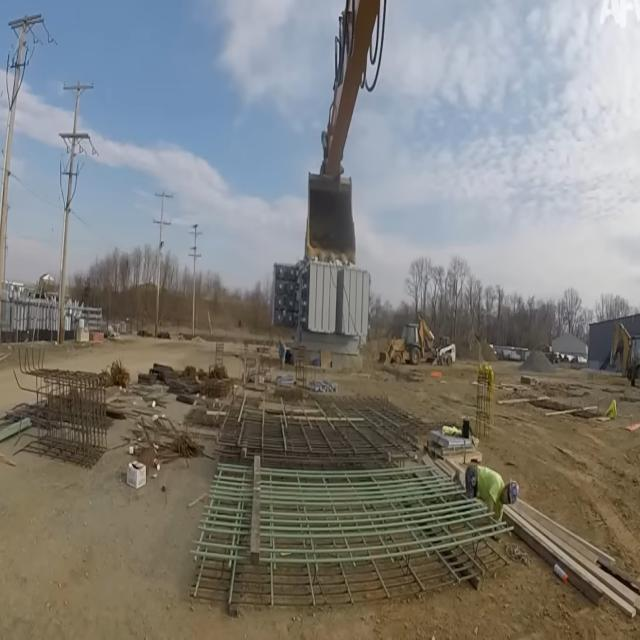fallen: (465, 465, 519, 520)
